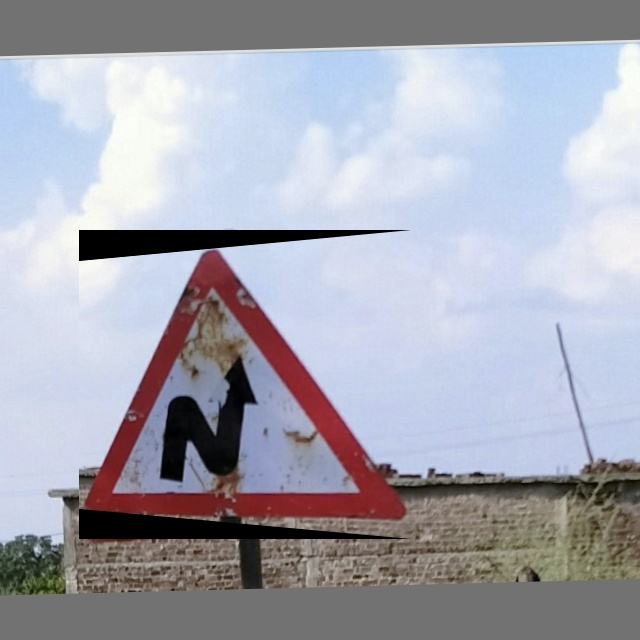Right_Reverse_Bend: (79, 230, 412, 539)
